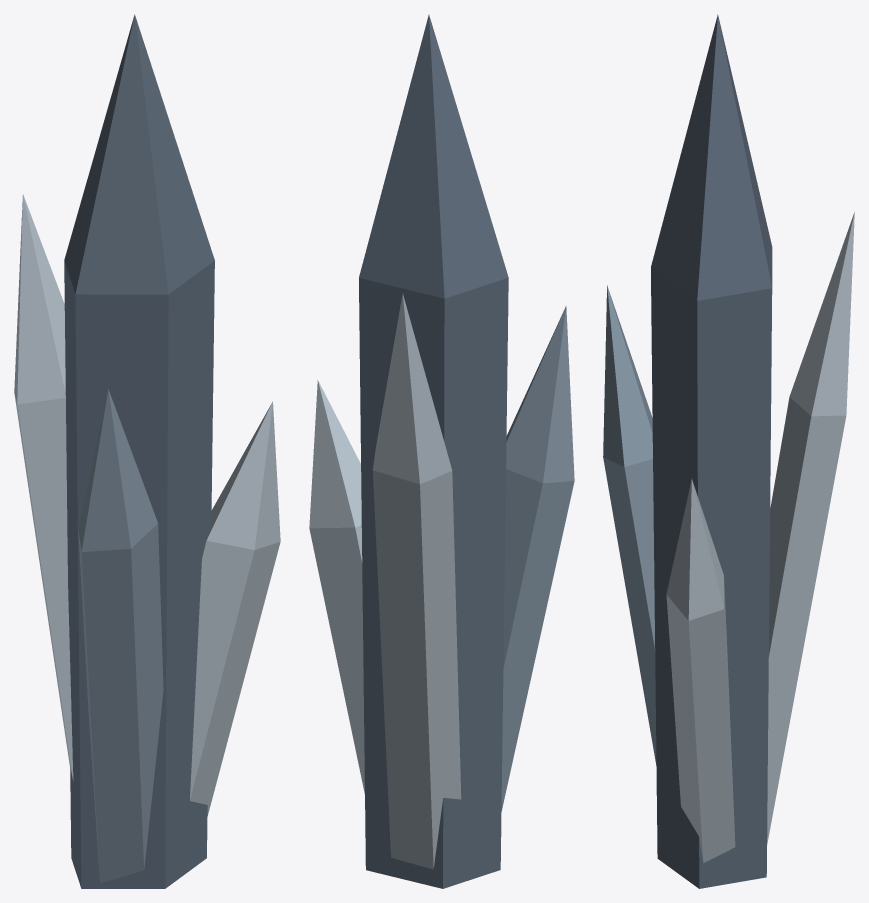
Rendered from tree-mineralSpire.glb.
The picture shows the model from 3 angles, left to right: view 1: azimuth 30°, elevation 25°; view 2: azimuth 150°, elevation 25°; view 3: azimuth 270°, elevation 25°; orthographic projection.
Visible parts, largest first — view 1: root-crystal, crystal-2, crystal-1, crystal-3; view 2: root-crystal, crystal-3, crystal-2, crystal-1; view 3: root-crystal, crystal-3, crystal-1, crystal-2.
Boxes of the visible parts, left/top/right/bottom form: root-crystal: left=64, top=14, right=214, bottom=888; crystal-2: left=78, top=389, right=163, bottom=883; crystal-1: left=190, top=401, right=280, bottom=816; crystal-3: left=14, top=194, right=73, bottom=781; root-crystal: left=359, top=14, right=508, bottom=888; crystal-3: left=372, top=293, right=461, bottom=869; crystal-2: left=501, top=306, right=574, bottom=812; crystal-1: left=309, top=380, right=364, bottom=793; root-crystal: left=651, top=14, right=772, bottom=888; crystal-3: left=767, top=211, right=854, bottom=844; crystal-1: left=666, top=479, right=735, bottom=862; crystal-2: left=603, top=285, right=656, bottom=766.
Bounding box in the file's own units: 1.42 × 5 × 1.35.
